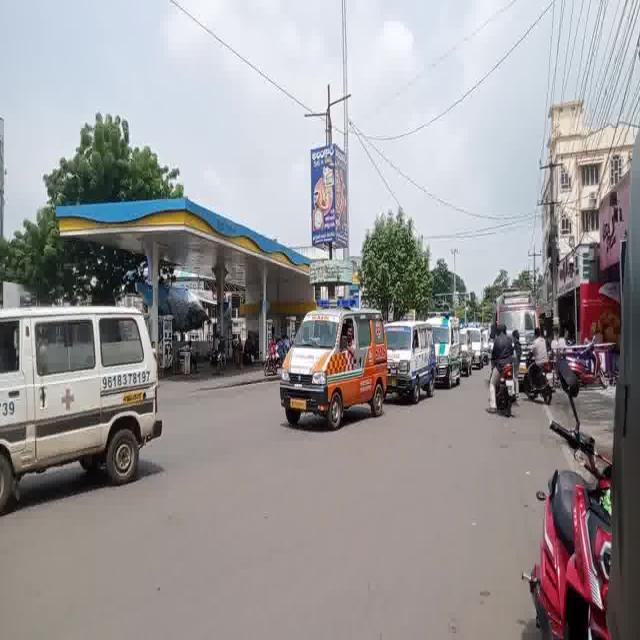ambulance: (2, 301, 160, 499), (280, 297, 388, 427), (388, 317, 434, 408), (492, 284, 543, 334), (437, 305, 457, 397), (459, 307, 469, 387), (470, 320, 480, 378), (481, 322, 490, 370)
